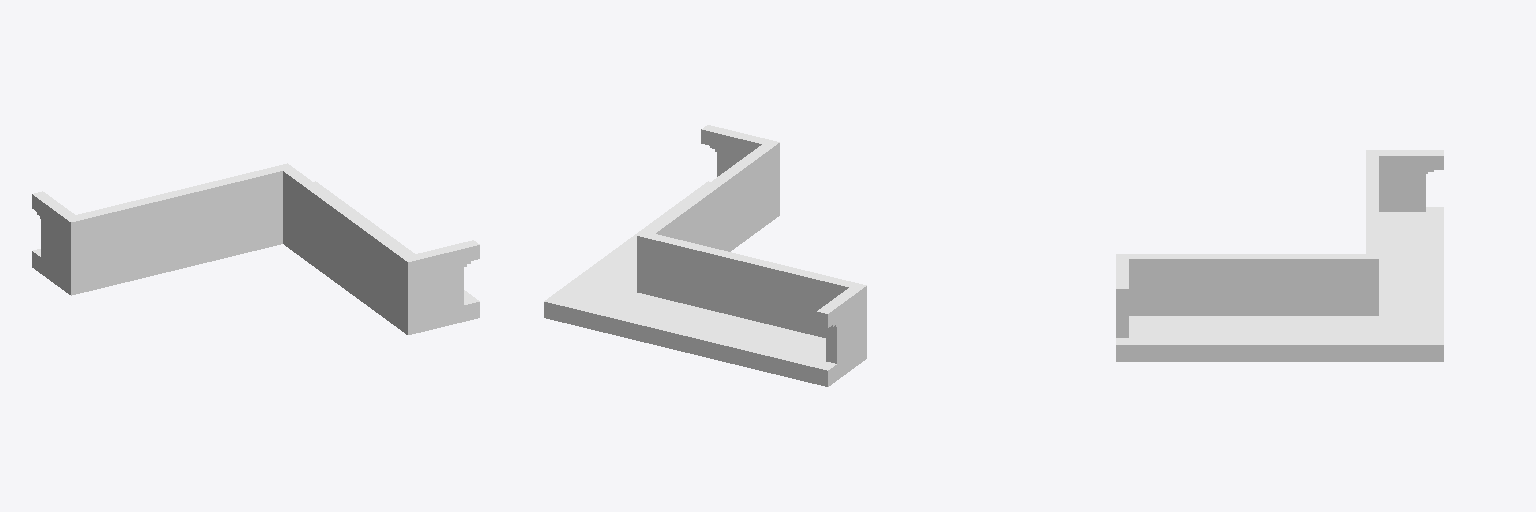
File: CrossRoom-1.obj
3 renders of one model, left to right at view 1: azimuth 30°, elevation 25°; view 2: azimuth 150°, elevation 25°; view 3: azimuth 270°, elevation 25°, orthographic.
Visible parts, largest first — view 1: object 1; view 2: object 1; view 3: object 1.
Part boxes in pixels (left/top/right/bottom): object 1: left=32, top=163, right=479, bottom=334; object 1: left=544, top=125, right=866, bottom=386; object 1: left=1116, top=150, right=1443, bottom=361.
Size of the model in its own units: 12.6 by 3.1 by 12.6.